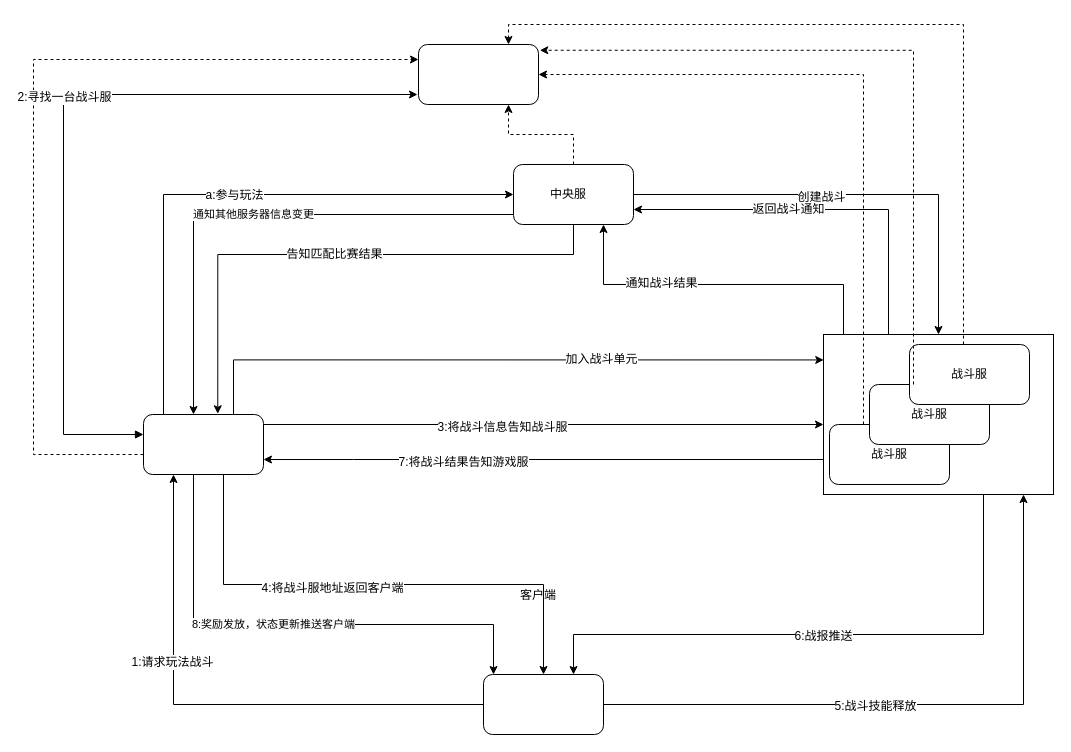
The diagram is 1071 pixels wide and 752 high, and some of its shapes have lost their labels. The box of each missing label's shape, as (x1, y1, x2, y2) in pixels:
zookeeper: (418, 44, 538, 104)
游戏服: (142, 414, 264, 474)
